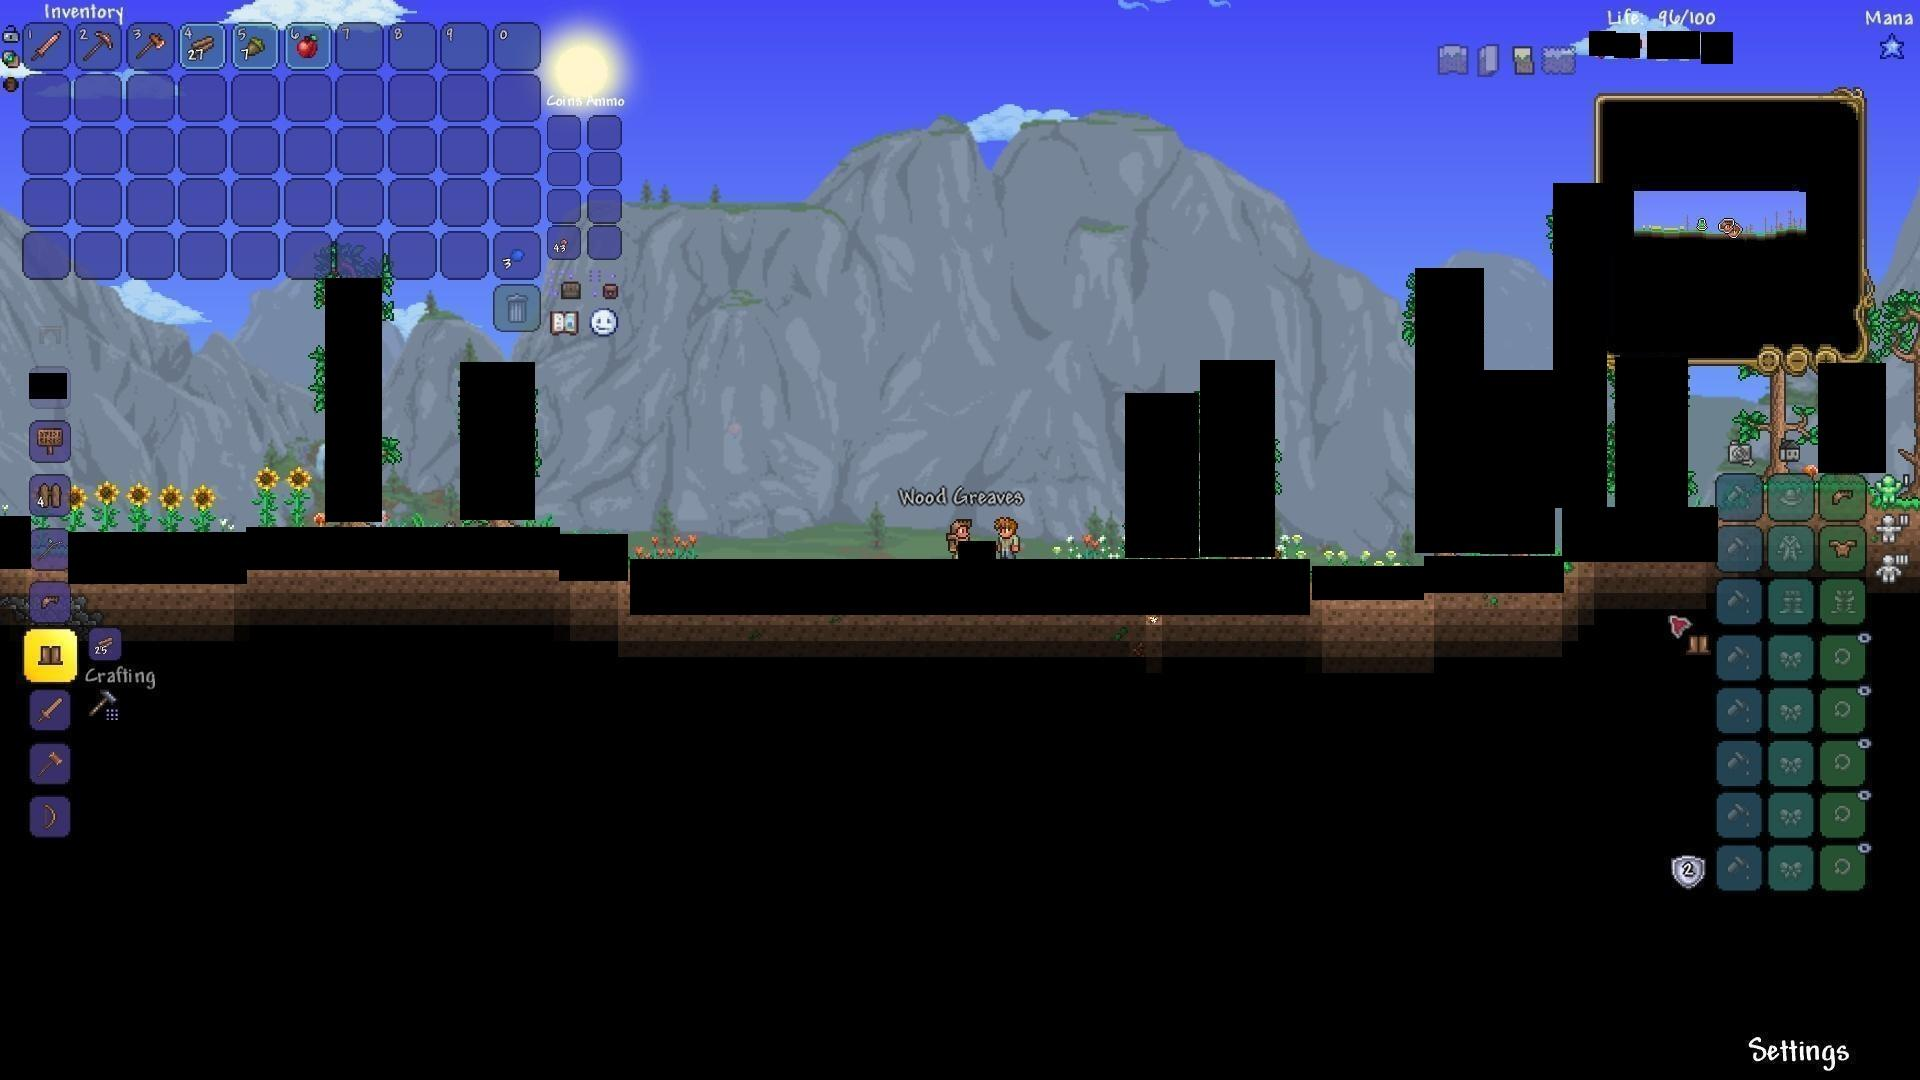breastplate: (1830, 537, 1859, 558)
helmet: (1829, 483, 1859, 512), (34, 592, 65, 620)
legs: (36, 642, 65, 671)
tree: (1745, 372, 1811, 475)
wood: (187, 32, 219, 62), (92, 633, 117, 657)
